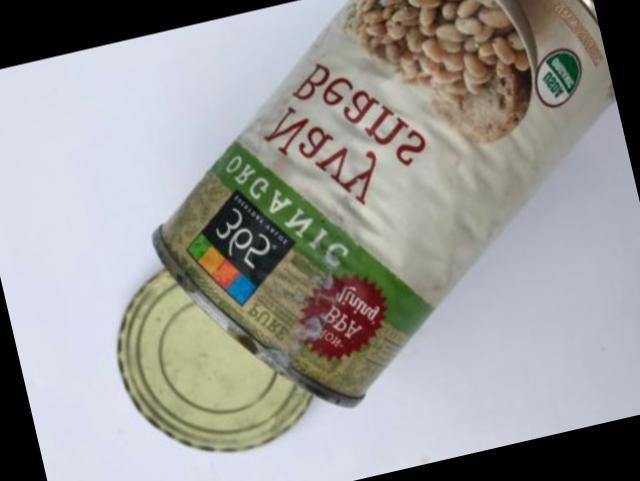metal: (152, 0, 615, 405)
